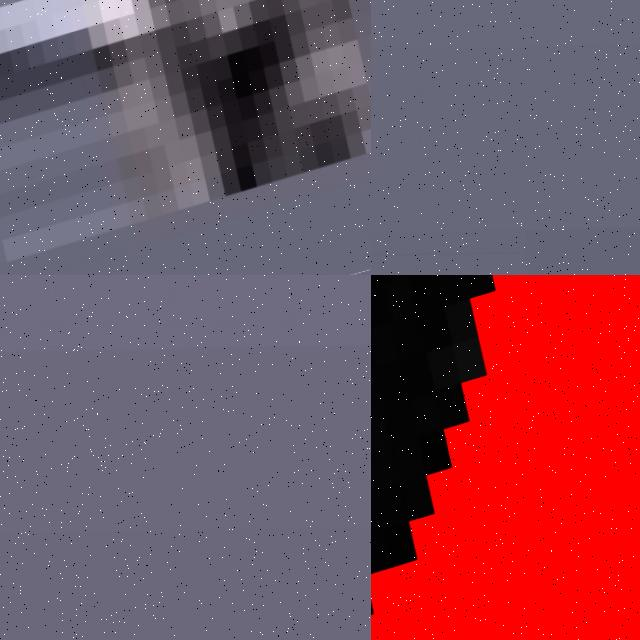drone: (0, 0, 371, 275), (371, 275, 640, 640)
